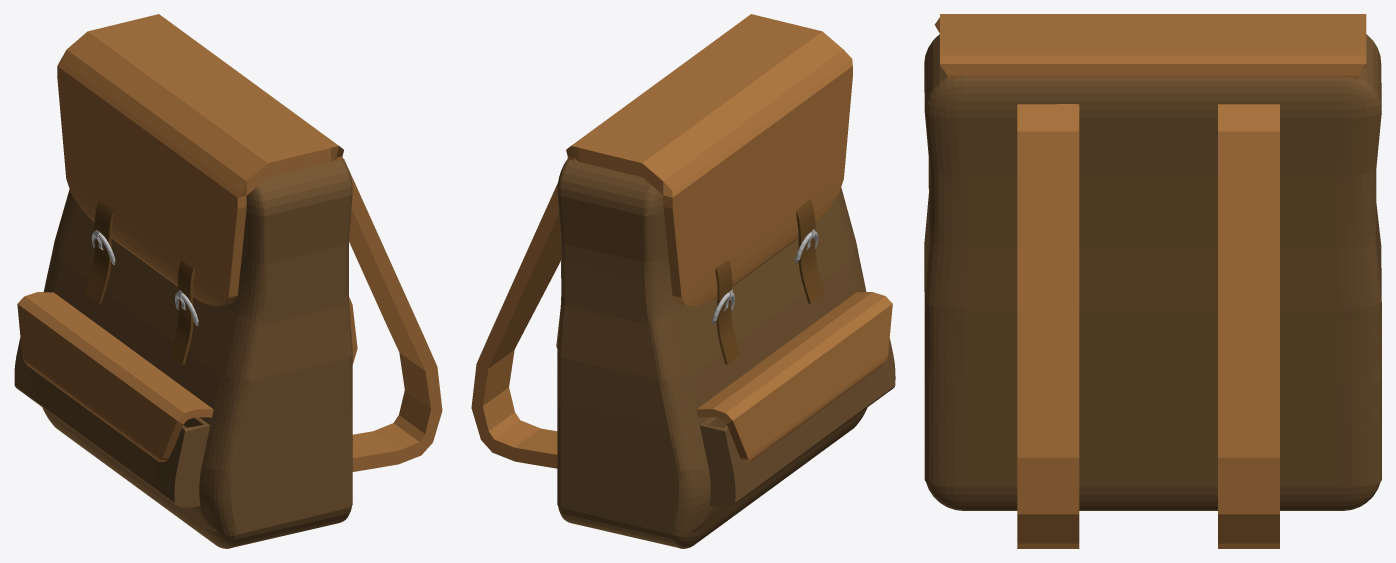
Rendered from bag.fbx.
3 renders of one model, left to right at view 1: azimuth 30°, elevation 25°; view 2: azimuth 150°, elevation 25°; view 3: azimuth 270°, elevation 25°, orthographic. The views are drawn at different scales.
Visible parts, largest first — view 1: bag, Cube.007, Cube.009, Cube.010; view 2: bag, Cube.007, Cube.008, Cube.010; view 3: bag, Cube.009, Cube.008, Cube.007.
Part boxes in pixels (x1,y1,x2,y2): bag: (14,159,352,548); Cube.007: (57,14,343,306); Cube.009: (342,158,442,471); Cube.010: (85,199,194,364); bag: (557,159,895,548); Cube.007: (566,14,852,306); Cube.008: (471,183,561,468); Cube.010: (715,199,824,364); bag: (924,34,1381,510); Cube.009: (1017,104,1079,548); Cube.008: (1218,104,1279,548); Cube.007: (934,14,1366,80).
Size of the model in its own units: 46.45 by 58.1 by 53.13.
